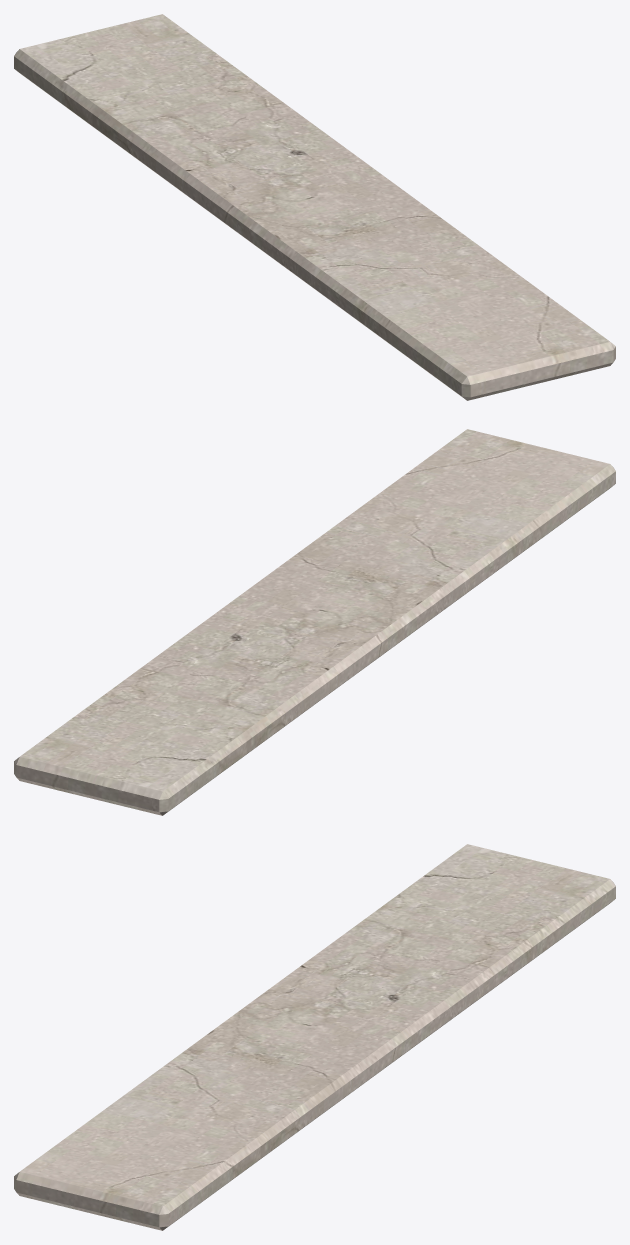
The model's file is marble_tile_167.fbx.
3 views of the same model, one above another, from view 1: azimuth 30°, elevation 25°; view 2: azimuth 150°, elevation 25°; view 3: azimuth 330°, elevation 25° (orthographic).
Visible parts, largest first — view 1: marble_tile_167; view 2: marble_tile_167; view 3: marble_tile_167.
Boxes of the visible parts, x1=… form: marble_tile_167: x1=14, y1=14, x2=615, y2=400; marble_tile_167: x1=14, y1=429, x2=615, y2=815; marble_tile_167: x1=14, y1=844, x2=615, y2=1230.
Bounding box in the file's own units: 44.21 × 6.65 × 225.
